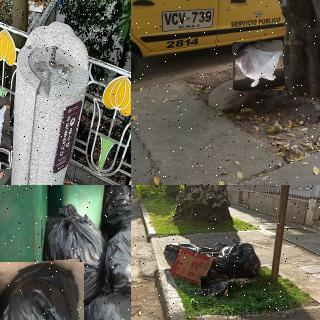Garbage: (42, 203, 108, 305), (0, 260, 86, 320), (233, 41, 284, 91), (102, 228, 131, 307), (214, 240, 264, 277), (0, 97, 10, 170), (201, 276, 228, 297)
